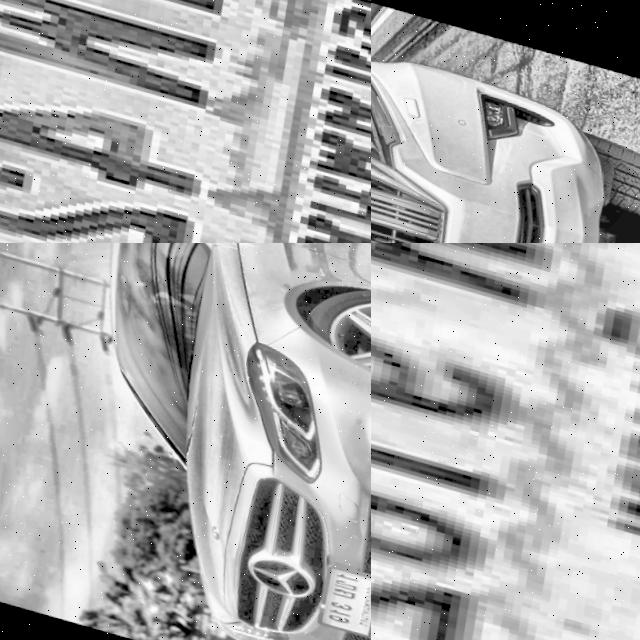license-plate: (371, 243, 640, 640), (0, 0, 371, 243), (307, 552, 371, 634)
